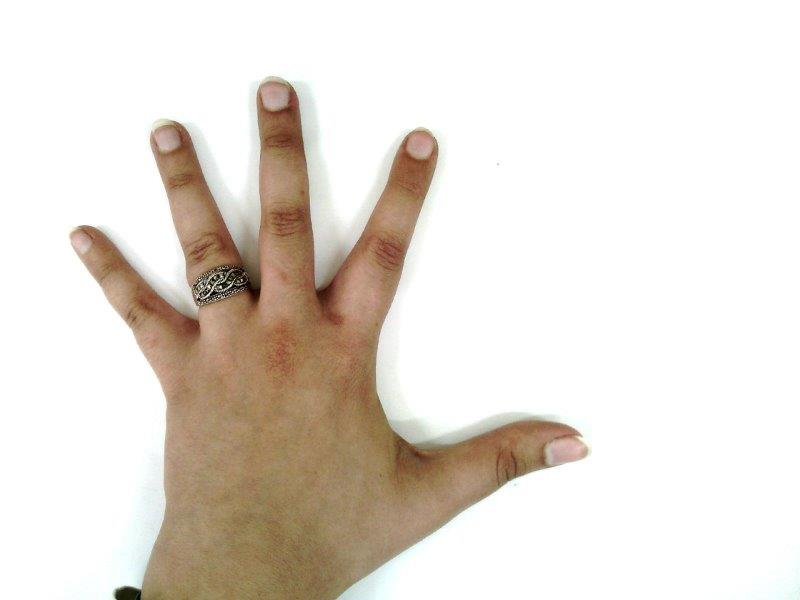hand: (71, 77, 591, 562)
